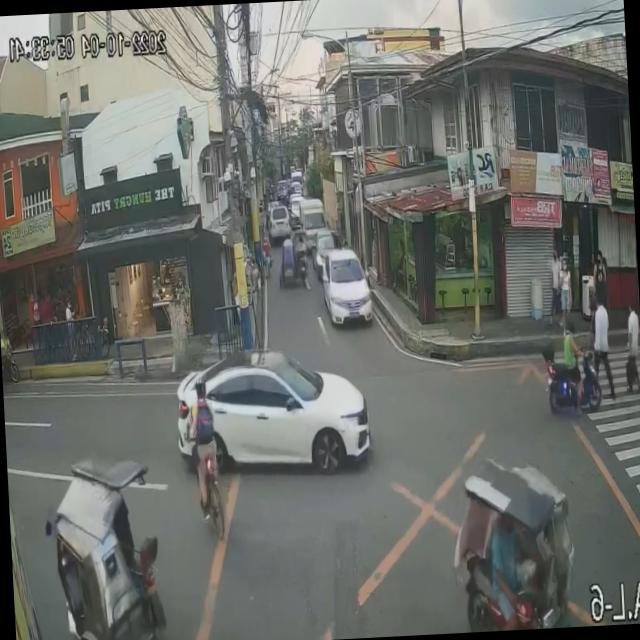full: (565, 314, 578, 338)
